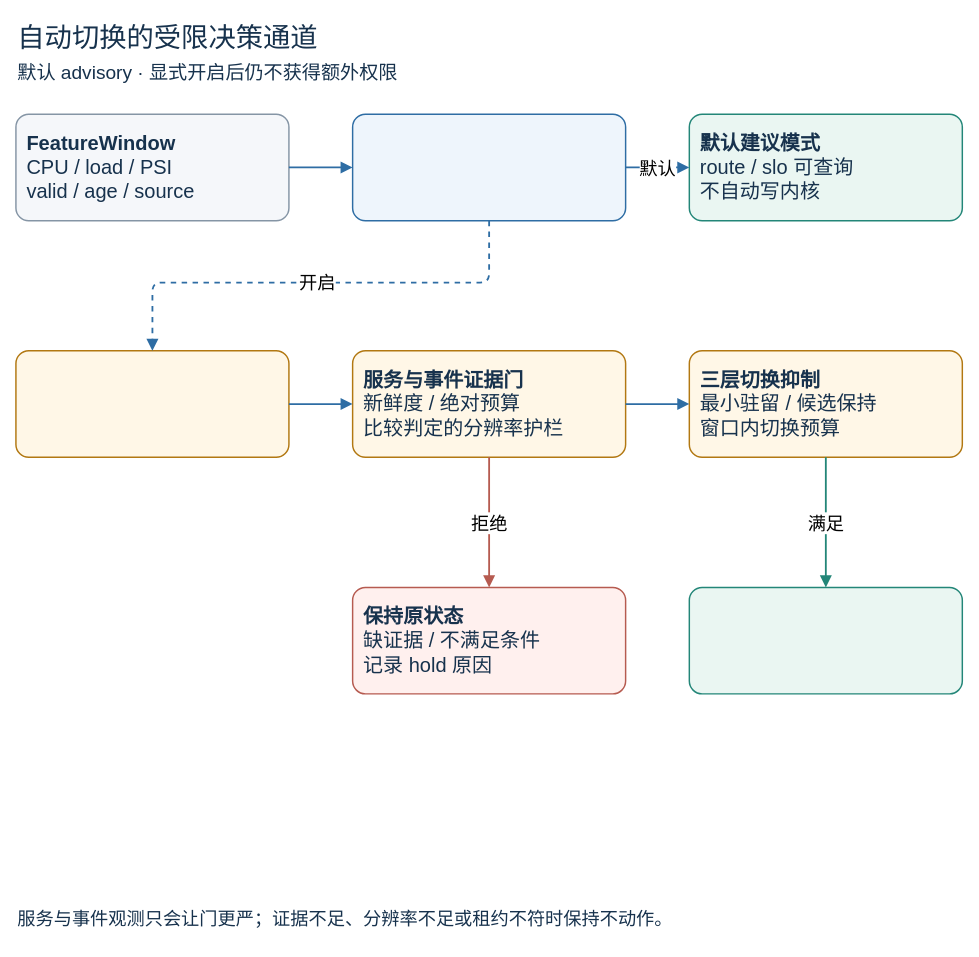
Some shapes in this 979 by 957 pixel diagram are drawn without their labels. The centre of each missing label's shape, as x and y in pixels:
"复用标准事务 apply → verify lease / WAL / 补偿" belongs at [825,640].
"显式开启与租约 auto-policy / auto-owner 权限来源保持不变" belongs at [152,404].
"规则专家路由 阈值与滞回 输出档位及理由" belongs at [488,167].
